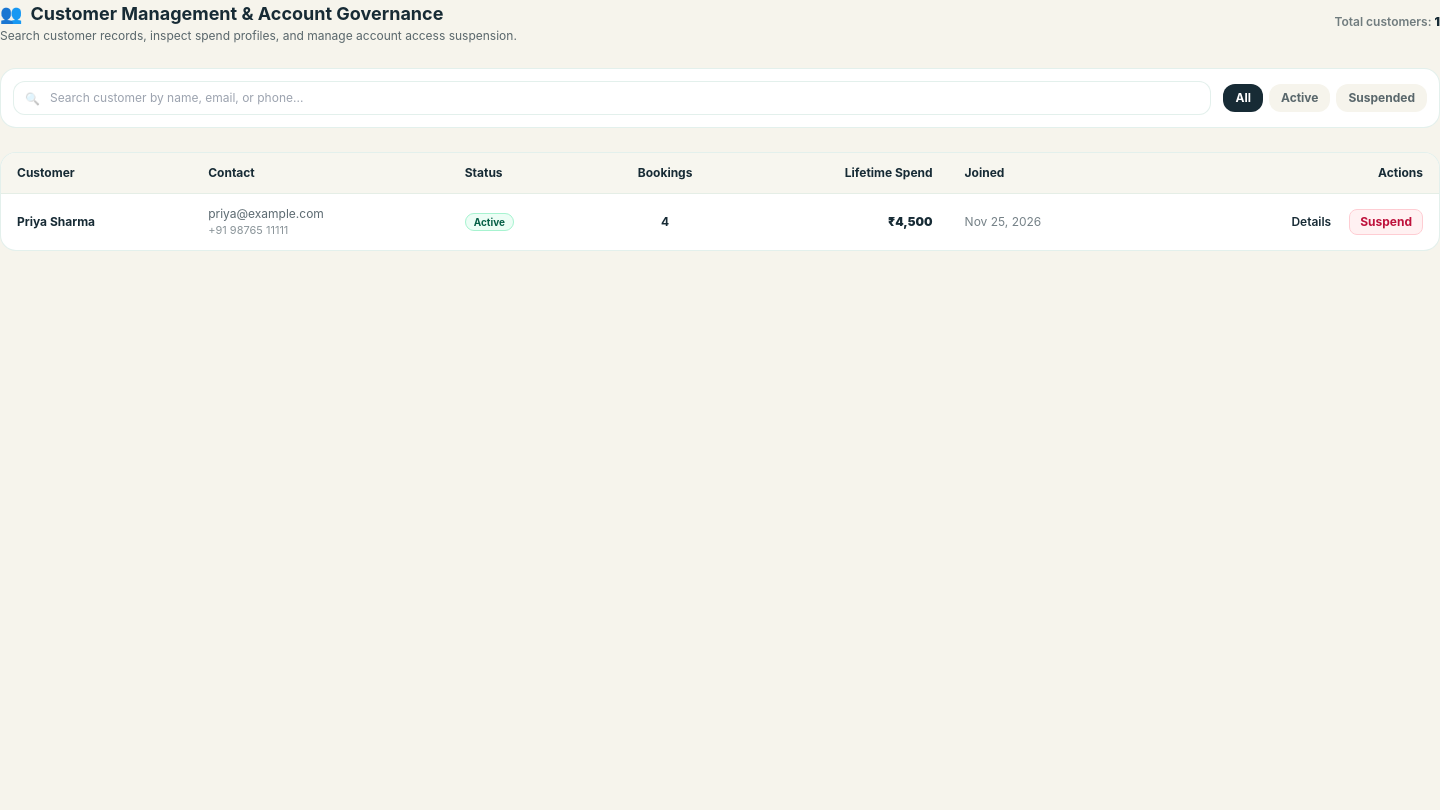
it: Phase 3: Admin Experience Frontend Suite › renders Milestone 3B customer accounts list, search filter, and opens suspension dialog
Expected: the text "Priya Sharma" is shown, x1=1 y1=194 x2=192 y2=250
Expected: the text "priya@example.com" is shown, x1=208 y1=206 x2=324 y2=221
// Click Suspend button
Click the button "Suspend": click(1386, 222) x1=1349 y1=209 x2=1423 y2=235
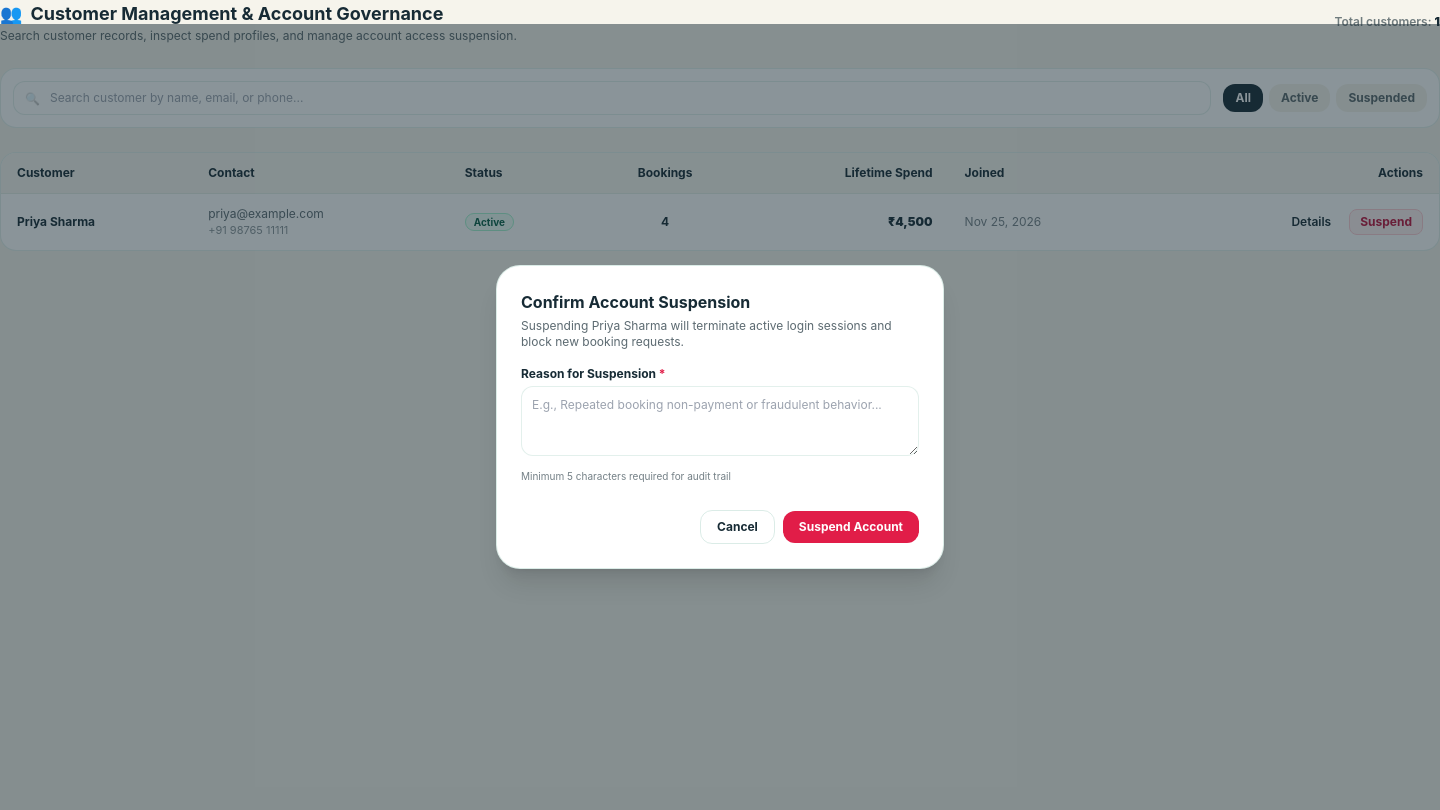
Result: the heading "Confirm Account Suspension" is shown at x1=521 y1=292 x2=750 y2=312
Result: the text box with placeholder "Repeated booking non-payment" is shown at x1=521 y1=386 x2=919 y2=456
